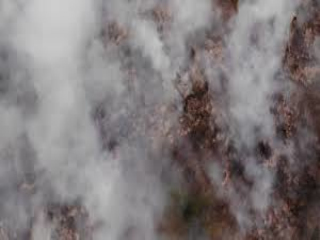smoke: (5, 13, 146, 223), (206, 15, 292, 221)
